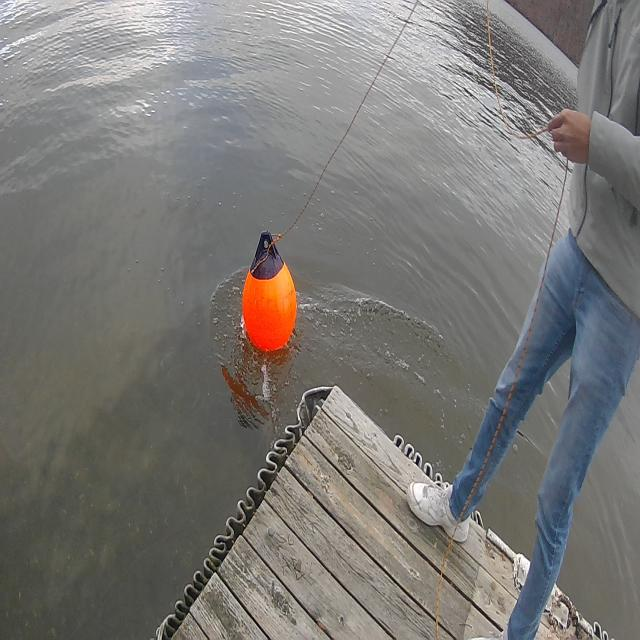Buoy: (238, 223, 302, 364)
